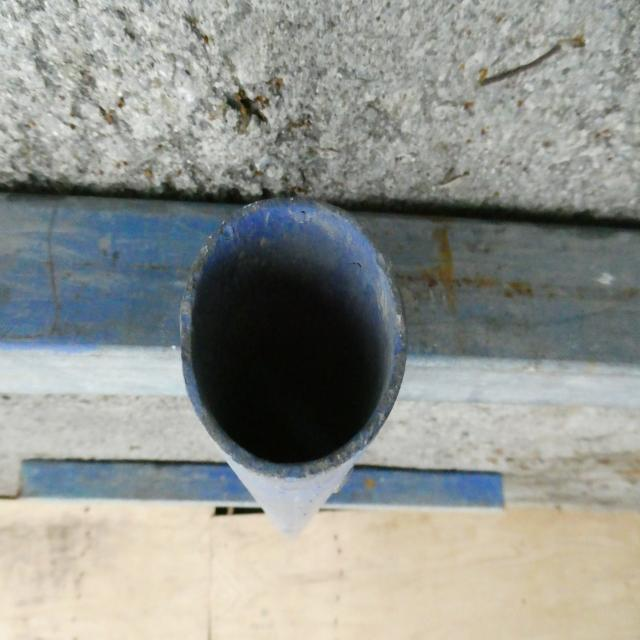pipe: (179, 196, 408, 479)
